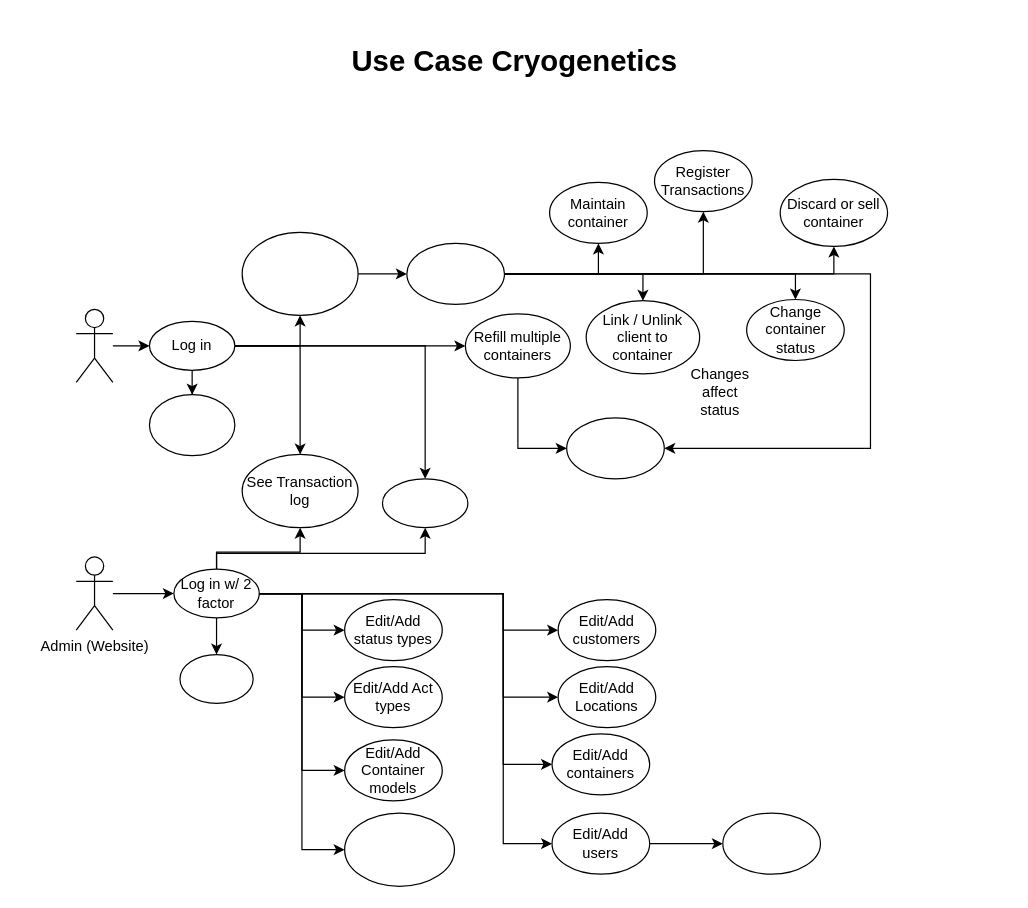
Image size: 1028x908. Some labels were removed from this diagram. The shapes that lost their labels are listed below. From the top down, each one's centre as x and y in pixels, then its label:
At (x=299, y=273): "See individual container information".
At (x=455, y=273): "Register Act's".
At (x=94, y=345): "User (App)".
At (x=191, y=424): "Log out / switch user".
At (x=614, y=448): "Refill container".
At (x=424, y=503): "See local inventory".
At (x=216, y=678): "Log out".
At (x=398, y=849): "Download Monthly report".
At (x=771, y=843): "Assign Admin".
